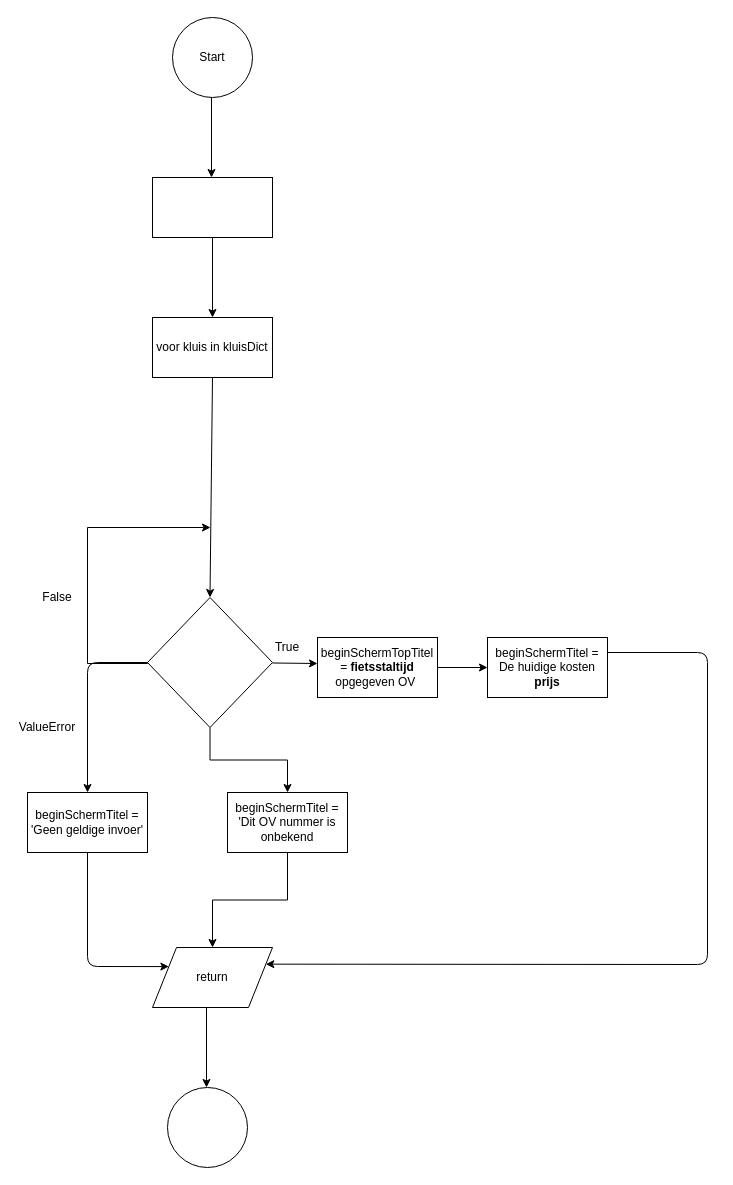
The diagram is 733 pixels wide and 1185 high, and some of its shapes have lost their labels. The shapes that lost their labels are listed below. From the top down, each one's box as (x1, y1, x2, y2) in pixels, then its label:
(152, 176, 272, 238): kluisDict = dictionary()
(146, 596, 272, 728): if OV in kluis en value kluis is iets
(166, 1086, 248, 1168): End
